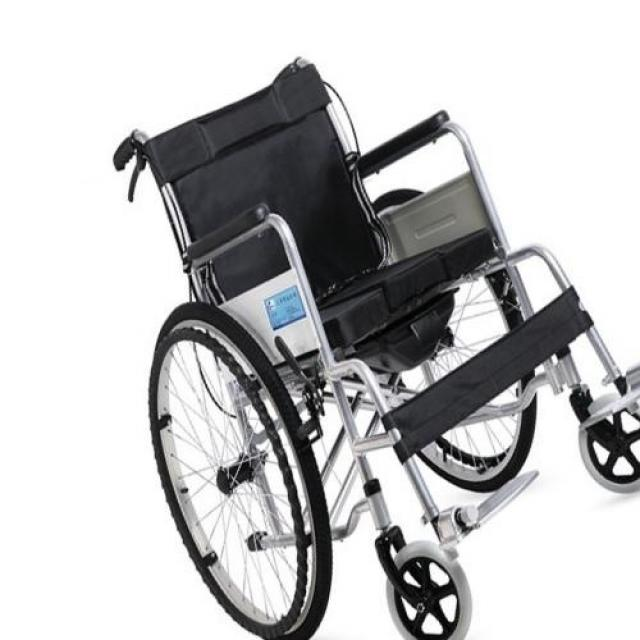wheelchair: (99, 47, 639, 640)
